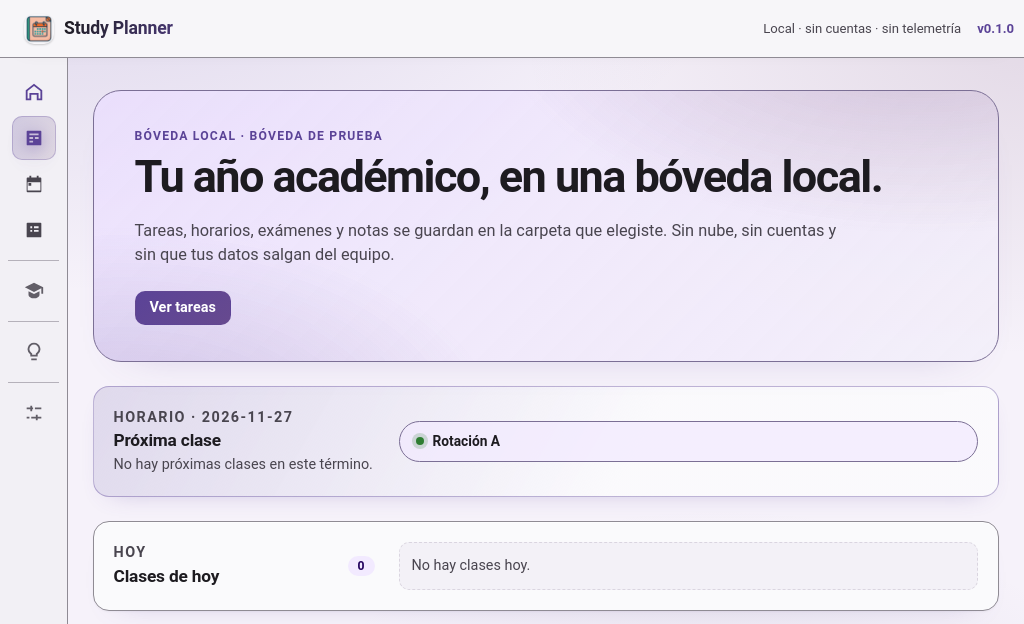
Test: App con IPC de Tauri › exporta la bóveda desde la vista Bóveda
Click the button named "Expandir sección Sistema": [34, 413] box [10,391,58,435]
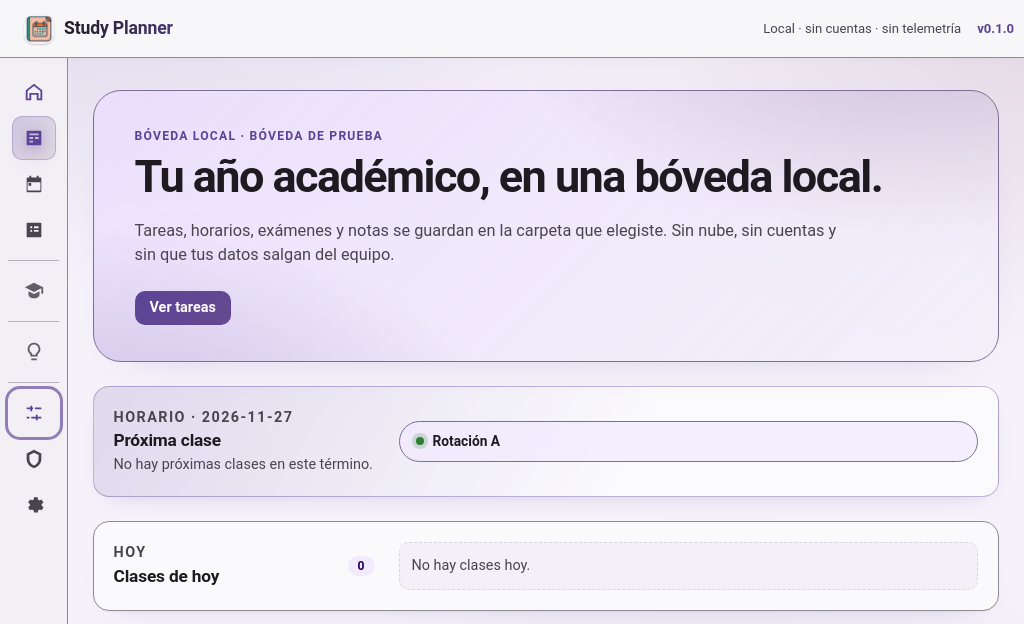
Click the button named "Bóveda": [34, 459] box [12,437,56,481]
(page scrolled)
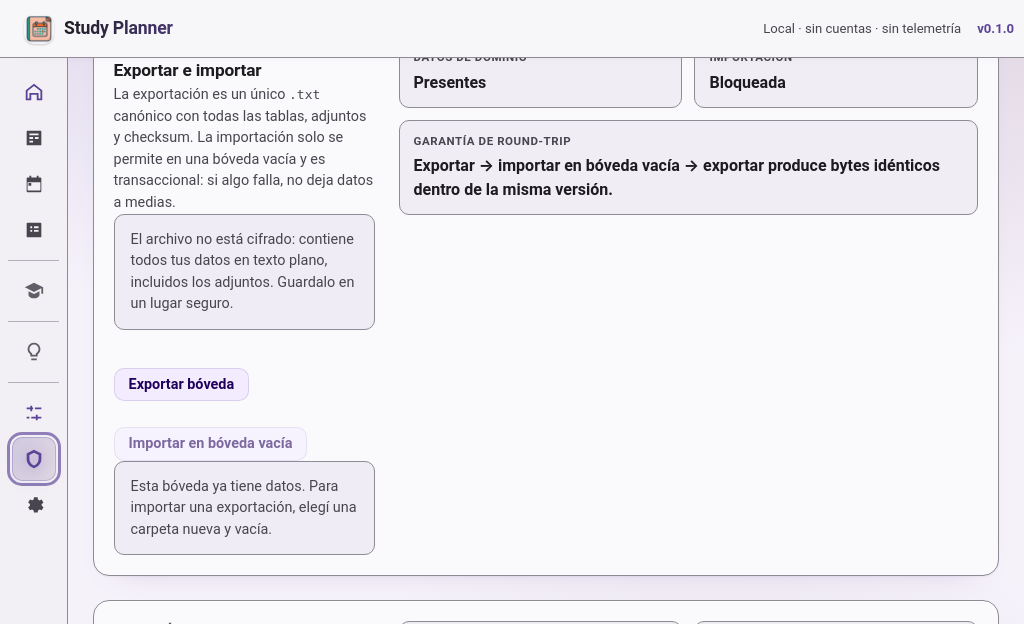
Click the button "Exportar bóveda": [181, 385] box [114,368,249,401]
(page scrolled)
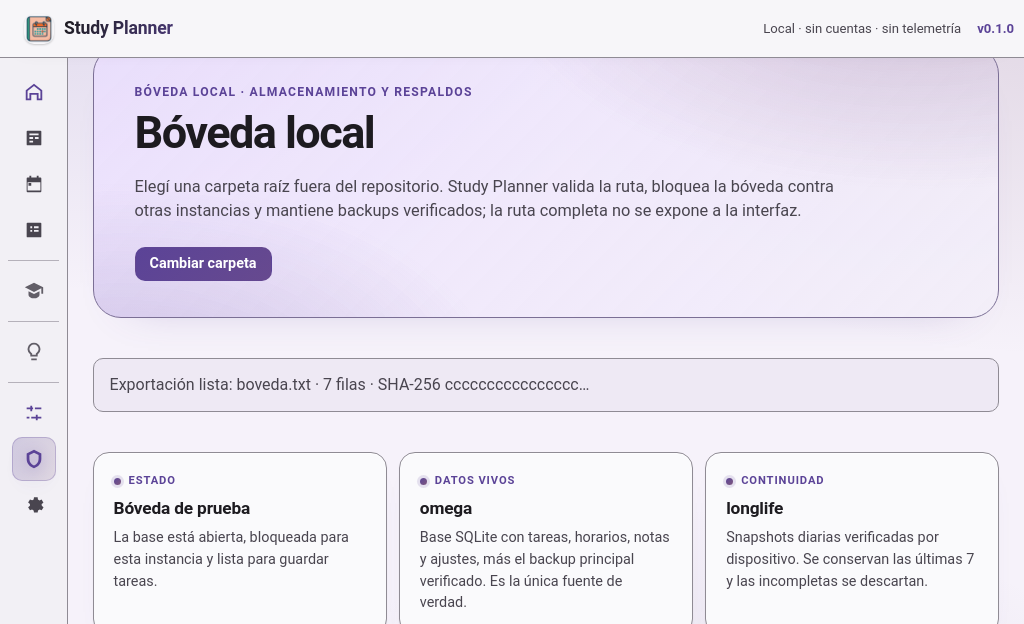
Check: the text "Exportación lista: boveda.txt" is shown, box [110,375,590,394]
